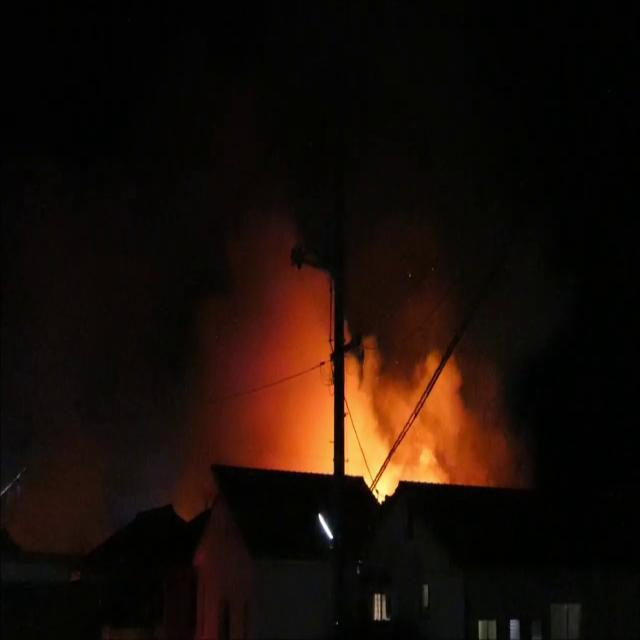Smoke: (185, 168, 525, 477)
